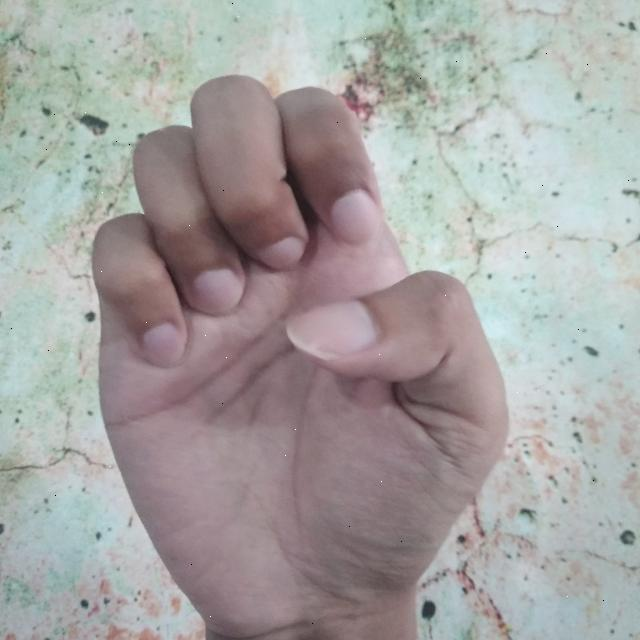E: (95, 73, 509, 640)
